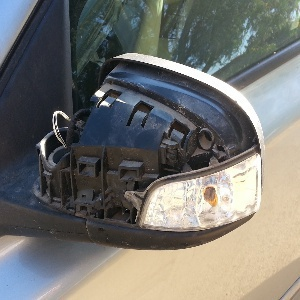side_mirror: (38, 47, 269, 255)
